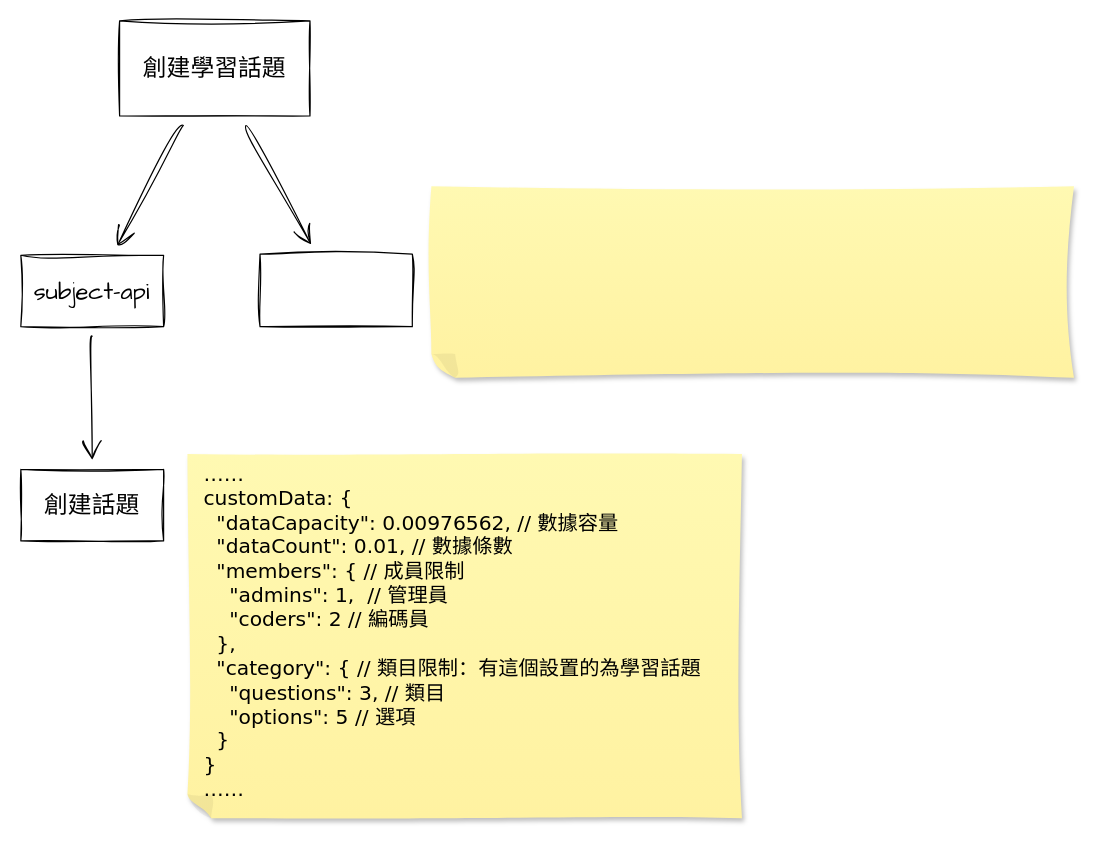
Some shapes in this 1102 by 847 pixel diagram are drawn without their labels. Each missing label, with the centre of its shape:
eadmin-api: point (335, 290)
…… productData: { …… trialTopicStatus: false // 修改用戶是否已創建學習話題的狀態 } ……: point (753, 283)
